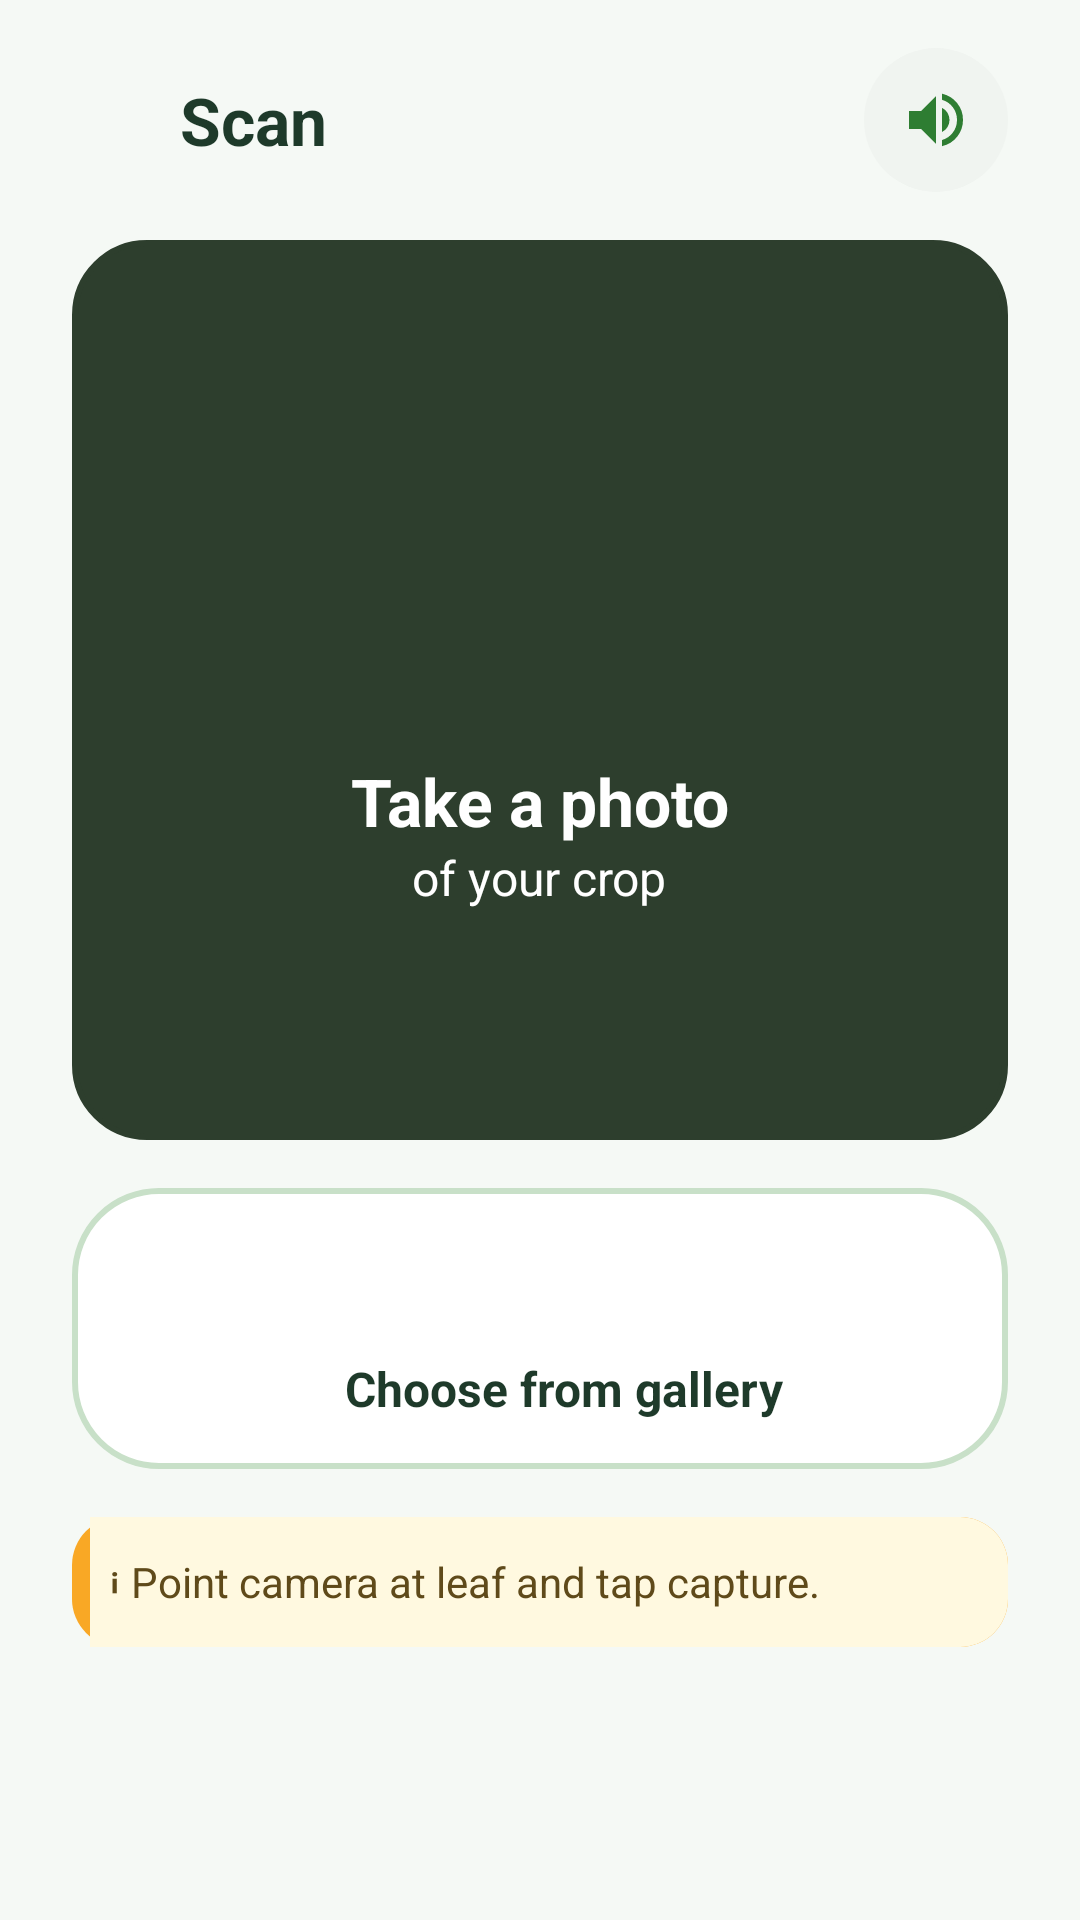

Icon click points for this 1080×1920 phone screenshot, format (x=x, y=y):
Listen: (x=936, y=119)
